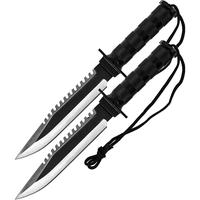knife: (12, 1, 176, 198)
